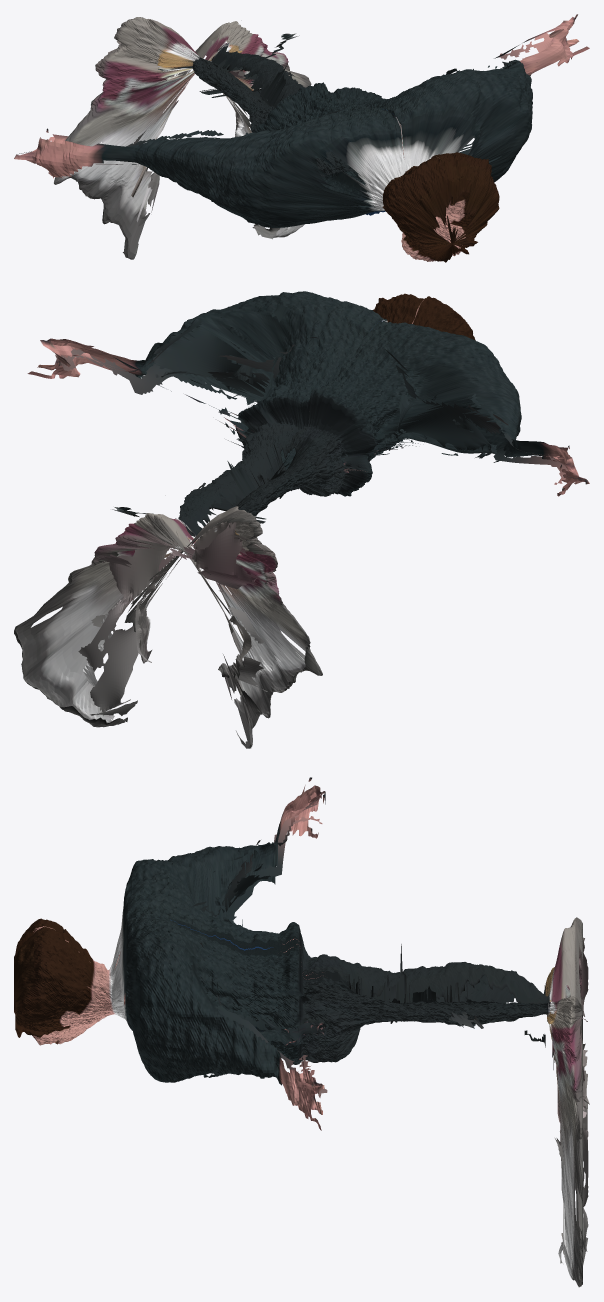
File: guess_mesh.glb
3 renders of one model, top to bottom at view 1: azimuth 30°, elevation 25°; view 2: azimuth 150°, elevation 25°; view 3: azimuth 270°, elevation 25°, orthographic. The views are drawn at different scales.
Visible parts, largest first — view 1: ipn, fill; view 2: ipn, fill; view 3: ipn, fill.
Part boxes in pixels (<box>): ipn: <box>14,14,589,262</box>; fill: <box>46,33,560,233</box>; ipn: <box>14,291,589,748</box>; fill: <box>55,305,568,715</box>; ipn: <box>14,777,582,1287</box>; fill: <box>186,792,589,1264</box>.
Size of the model in its own units: 1.6 by 0.8155 by 1.27.
Materials: 2 (1 with a texture image).
